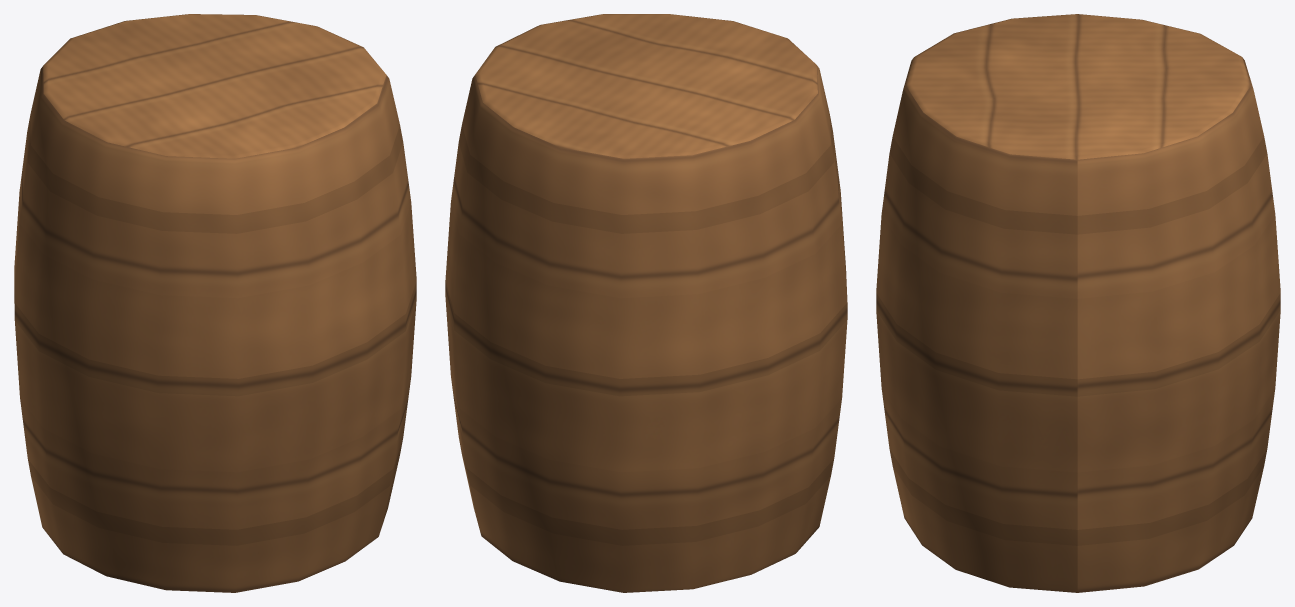
File: barrel2.glb
3 views of the same model, side by side, from view 1: azimuth 30°, elevation 25°; view 2: azimuth 150°, elevation 25°; view 3: azimuth 270°, elevation 25° (orthographic).
Visible parts, largest first — view 1: barrel2; view 2: barrel2; view 3: barrel2.
Boxes of the visible parts, box(x1,y1,x2,y2) form: barrel2: box(14, 14, 416, 592); barrel2: box(445, 14, 847, 592); barrel2: box(876, 14, 1280, 592).
Size of the model in its own units: 0.76 by 0.9 by 0.76.
1 material, 1 textured.
